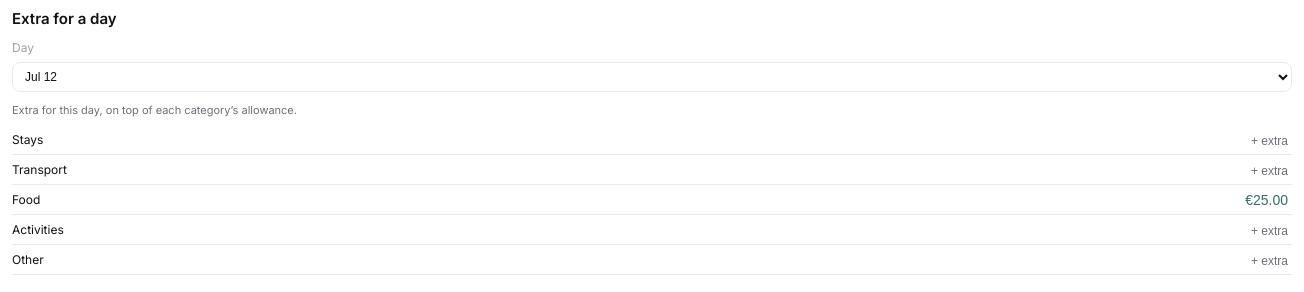
it: TripDayExtra › re-seeds the editor when a different day is picked
Expected: the button named "Extra budget for Food" reads "€25.00", x1=1241 y1=190 x2=1292 y2=210
Select "Jul 13" in the dropdown named "Day to add extra to" at coordinates (652, 77), box x1=12 y1=62 x2=1292 y2=92
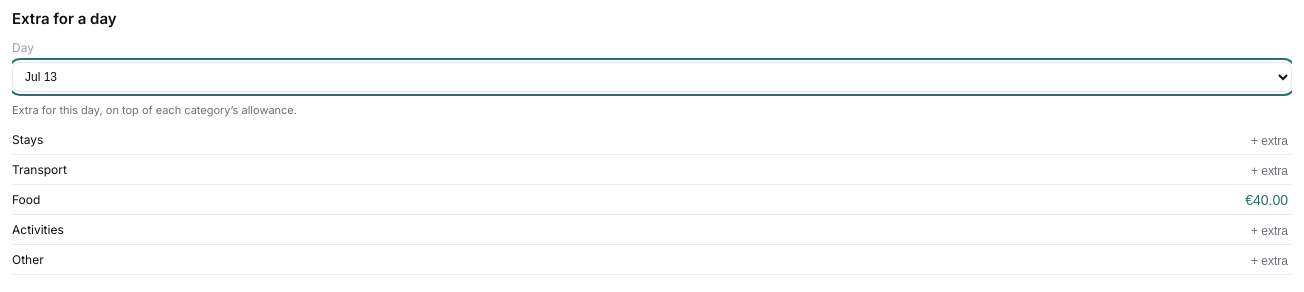
Now the button named "Extra budget for Food" reads "€40.00", box x1=1241 y1=190 x2=1292 y2=210
